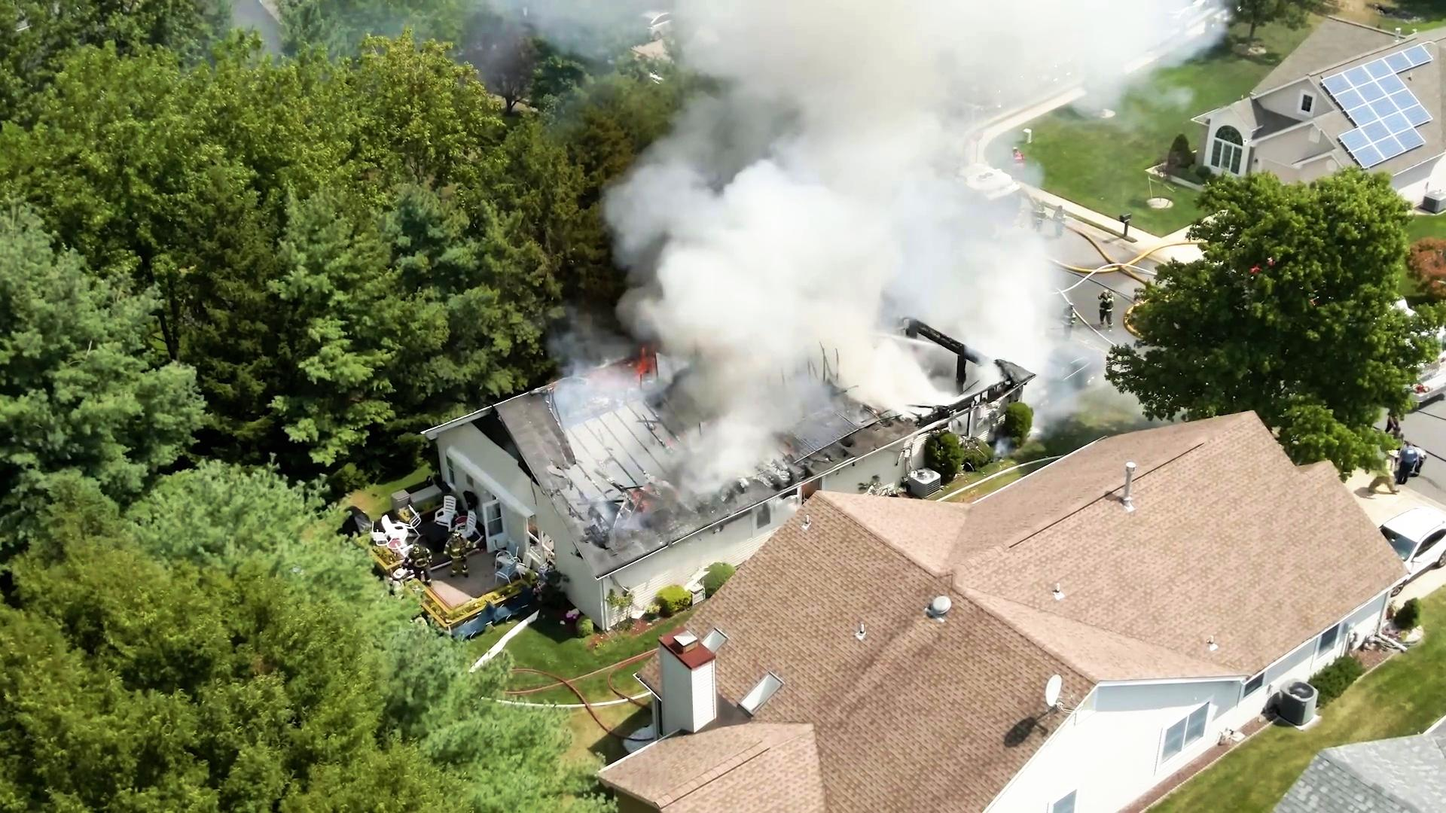smoke: (730, 56, 1002, 341), (609, 126, 862, 339), (710, 0, 1139, 94)
